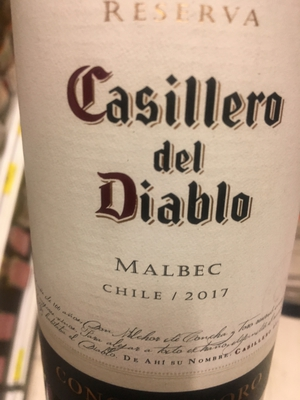casillero del diablo malbec: (10, 2, 300, 399)
